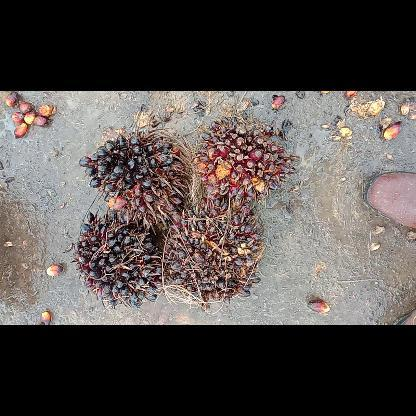TBS abnormal: (161, 192, 267, 310), (74, 209, 164, 310)
TBS masak: (78, 126, 192, 226), (191, 112, 298, 210)
